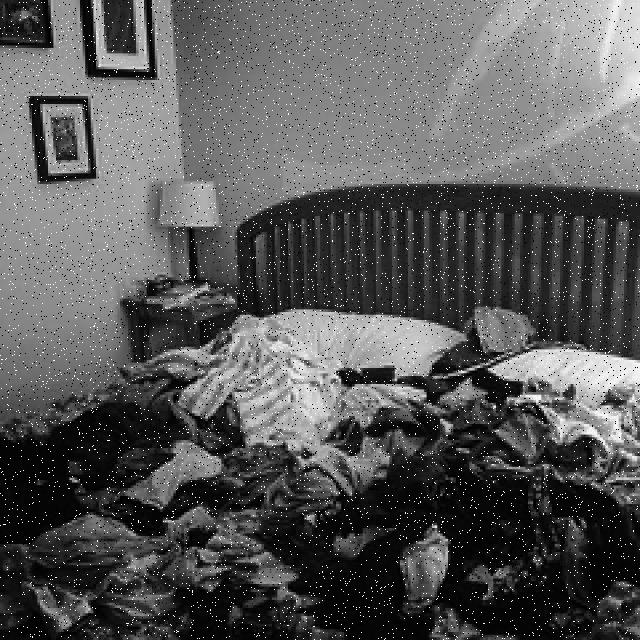bed: (0, 208, 637, 640)
